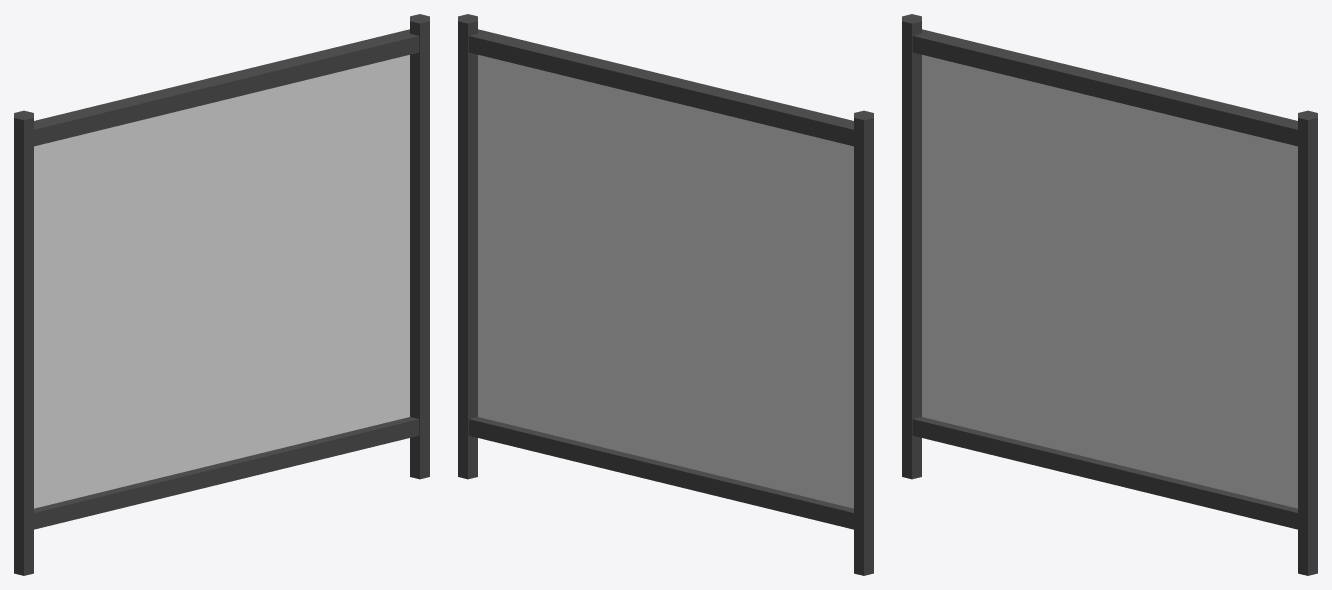
Rendered from chainlinkFence.fbx.
3 views of the same model, side by side, from view 1: azimuth 30°, elevation 25°; view 2: azimuth 150°, elevation 25°; view 3: azimuth 330°, elevation 25° (orthographic).
Visible parts, largest first — view 1: Middle, Pole_right, Pole_left; view 2: Middle, Pole_right, Pole_left; view 3: Middle, Pole_left, Pole_right.
Part boxes in pixels (bbox=[...]): Middle: bbox=[34, 29, 419, 529]; Pole_right: bbox=[14, 110, 33, 575]; Pole_left: bbox=[410, 14, 429, 479]; Middle: bbox=[468, 29, 853, 529]; Pole_right: bbox=[854, 110, 873, 575]; Pole_left: bbox=[458, 14, 477, 479]; Middle: bbox=[912, 29, 1297, 529]; Pole_left: bbox=[1298, 110, 1317, 575]; Pole_right: bbox=[902, 14, 921, 479].
Bounding box in the file's own units: 420 × 440 × 17.32.
